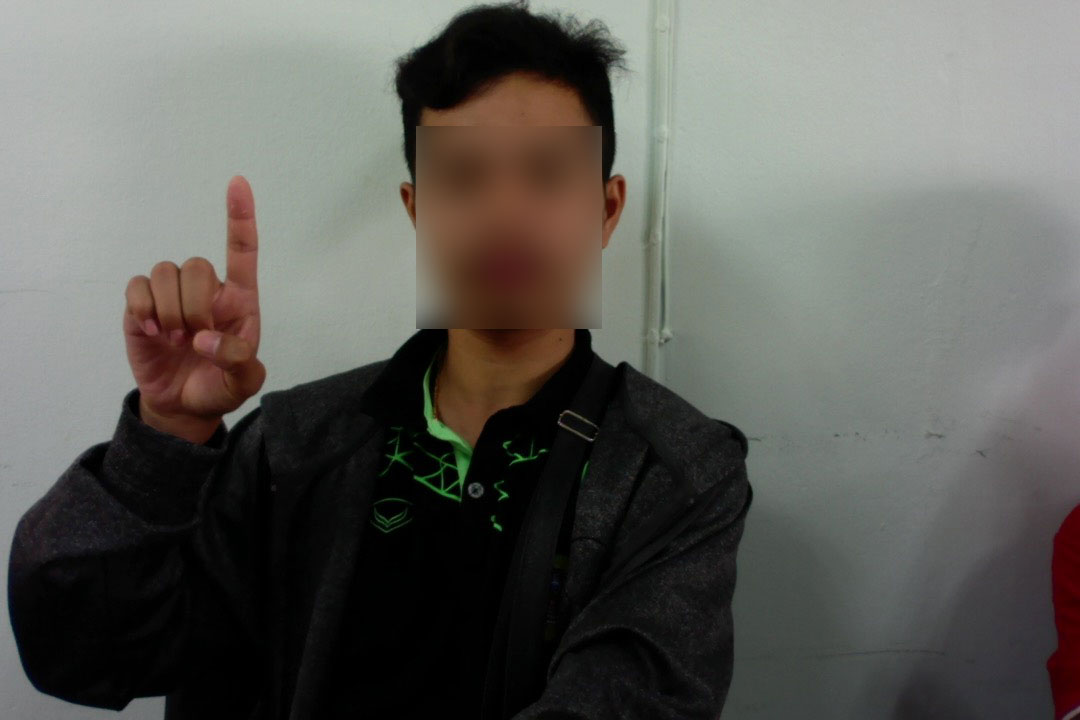dor: (113, 167, 277, 422)
